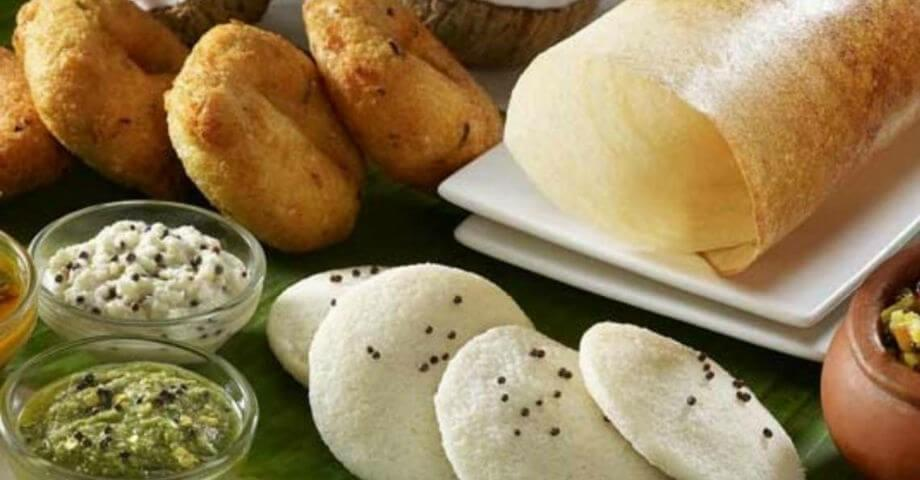CoconutChutney: (42, 220, 249, 345)
Dosa: (504, 0, 920, 279)
Idli: (310, 265, 534, 480), (578, 321, 805, 480), (434, 326, 668, 480), (268, 266, 401, 387)
